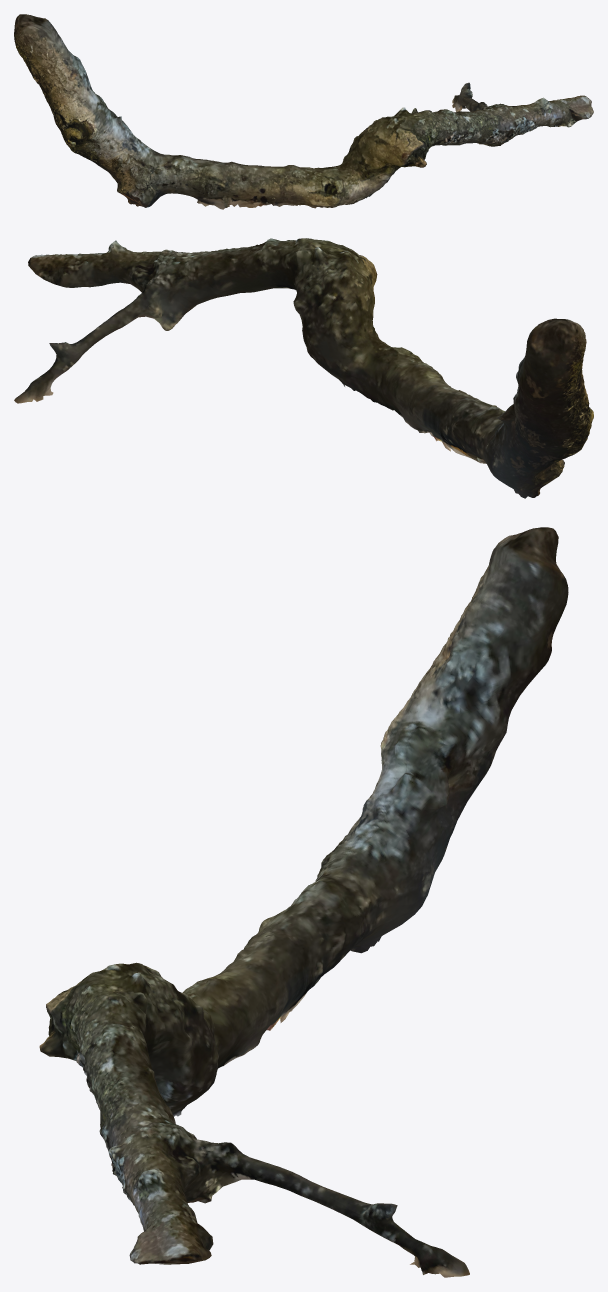
The model's file is gren_new_1_16_50_44.gltf.
The picture shows the model from 3 angles, top to bottom: view 1: azimuth 30°, elevation 25°; view 2: azimuth 150°, elevation 25°; view 3: azimuth 270°, elevation 25°; orthographic projection. The views are drawn at different scales.
Bounding box in the file's own units: 0.522 × 0.1796 × 0.2458.
Materials: 1 (1 with a texture image).
